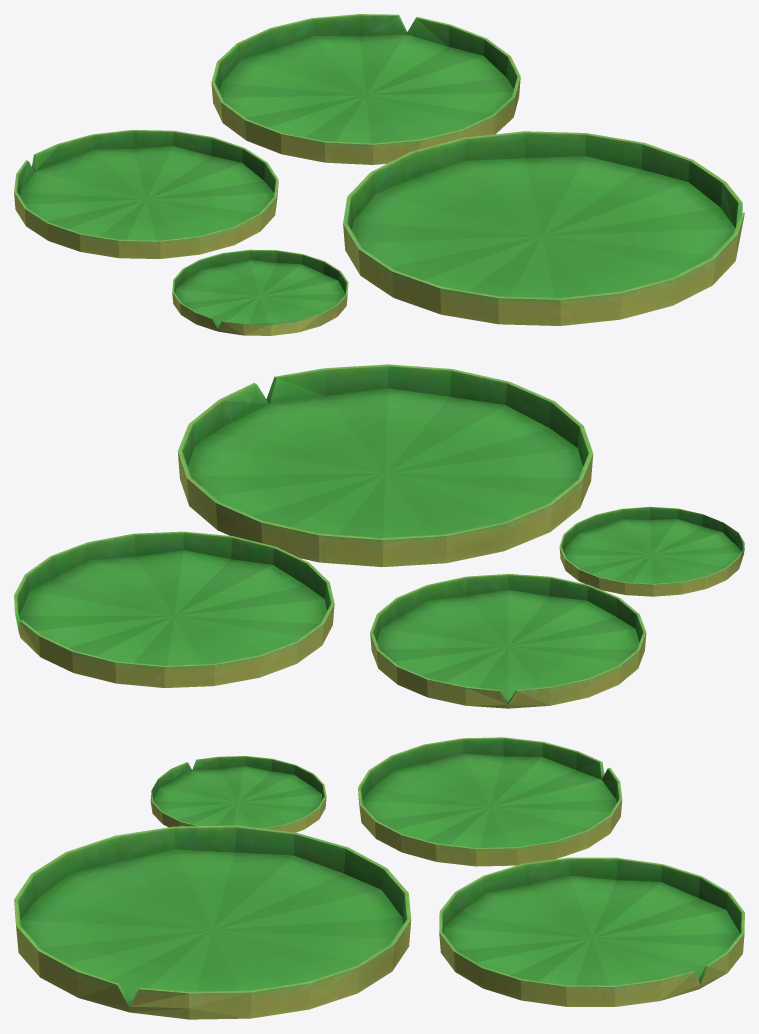
Rendered from waterLilies.glb.
3 renders of one model, top to bottom at view 1: azimuth 30°, elevation 25°; view 2: azimuth 150°, elevation 25°; view 3: azimuth 270°, elevation 25°, orthographic. The views are drawn at different scales.
Visible parts, largest first — view 1: GiantWaterLilies_mesh; view 2: GiantWaterLilies_mesh; view 3: GiantWaterLilies_mesh.
Boxes of the visible parts, x1,y1,x2,y2 form: GiantWaterLilies_mesh: (14,14,744,335); GiantWaterLilies_mesh: (14,364,744,708); GiantWaterLilies_mesh: (14,737,744,1019).
Bounding box in the file's own units: 18.53 × 0.8828 × 21.59.
1 material, 1 textured.
